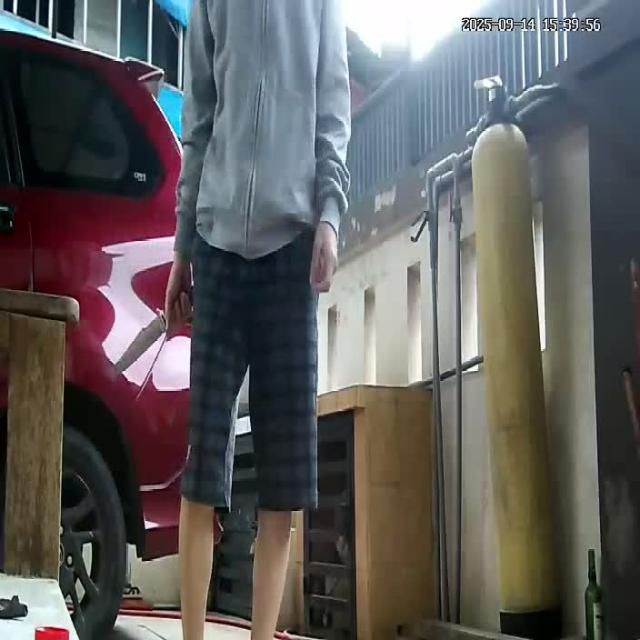senjata_tajam: (110, 311, 168, 378)
